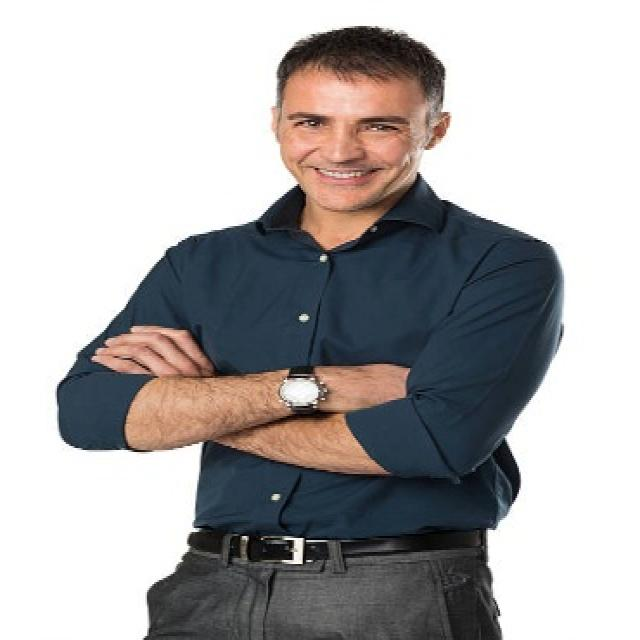adult: (57, 21, 584, 640)
